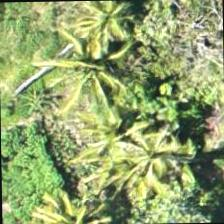Kelapa_Sawit: (104, 112, 196, 204), (44, 27, 136, 119), (60, 0, 152, 56)
